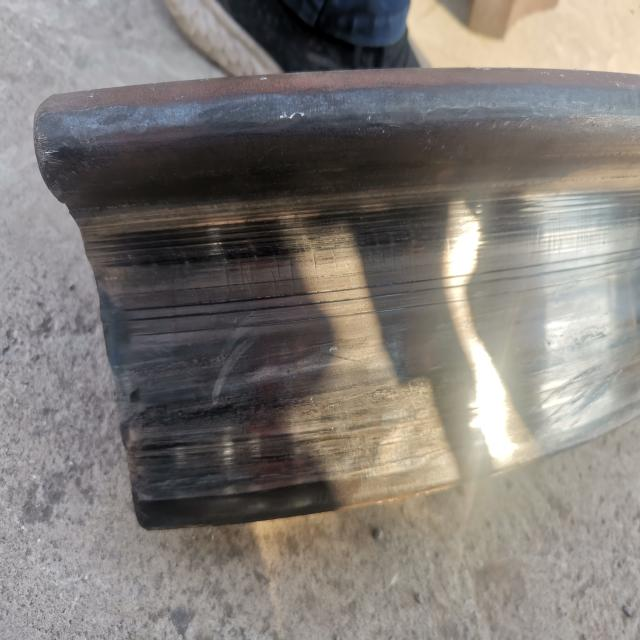Brake_Thermal_Cracks: (179, 253, 202, 306), (215, 236, 232, 303), (125, 246, 144, 295), (262, 250, 279, 296), (305, 237, 320, 289), (193, 264, 211, 304), (148, 256, 169, 289), (119, 253, 135, 296), (113, 255, 128, 300), (285, 239, 297, 295), (297, 241, 310, 290), (172, 253, 187, 290), (234, 247, 245, 295), (103, 265, 117, 293), (374, 234, 384, 272), (271, 244, 282, 278), (207, 236, 220, 263), (243, 269, 254, 299), (359, 242, 368, 278), (248, 239, 258, 267), (390, 236, 397, 274), (247, 250, 255, 283), (547, 212, 552, 263), (367, 240, 376, 267), (332, 247, 340, 275), (396, 246, 404, 273), (596, 212, 601, 254), (553, 214, 557, 263), (537, 217, 541, 264), (348, 263, 354, 288), (559, 212, 562, 262), (356, 266, 362, 290), (585, 211, 588, 259), (590, 210, 593, 257), (577, 210, 580, 256), (379, 243, 385, 265), (403, 253, 409, 275), (581, 212, 583, 257), (410, 254, 414, 276), (414, 257, 418, 278)
